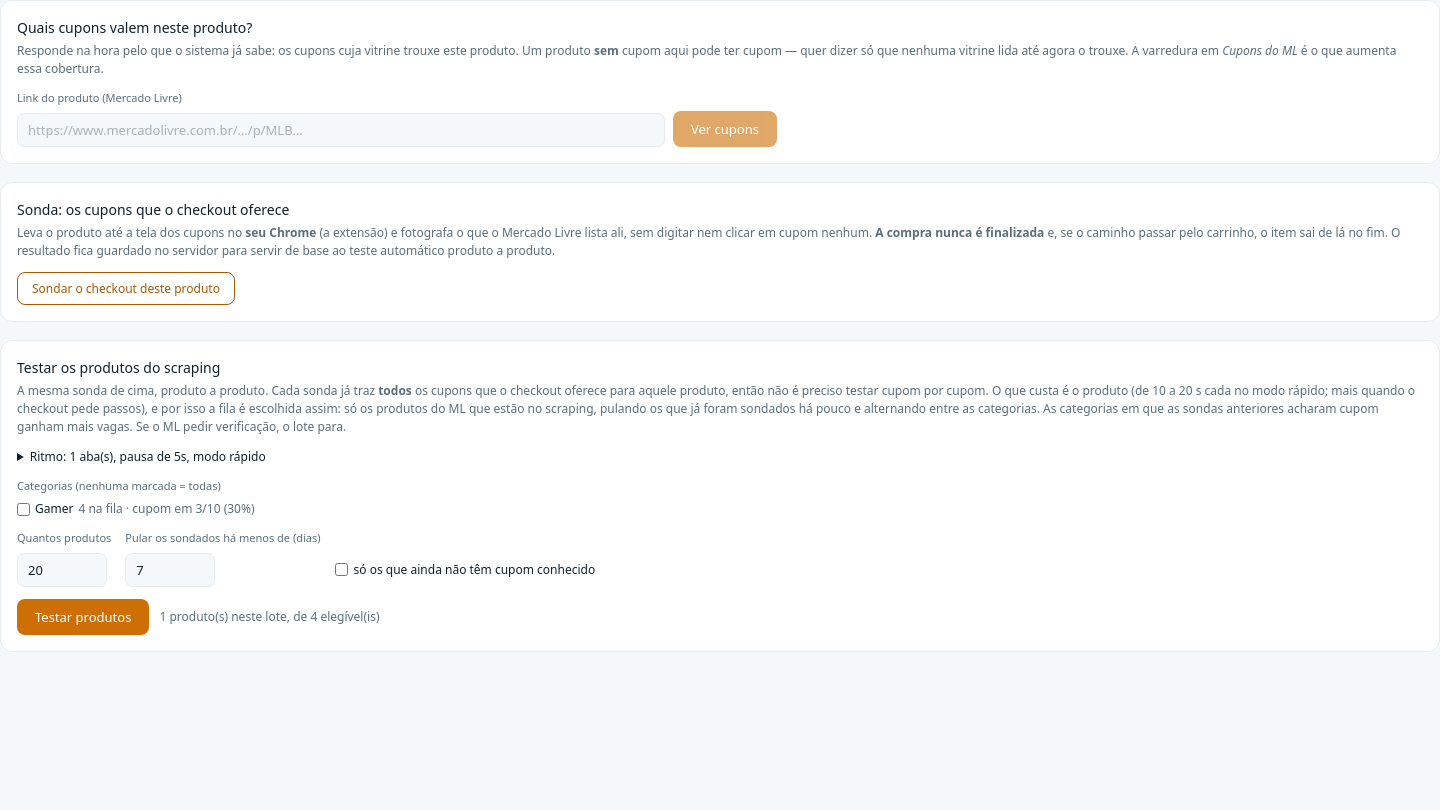
Test: Cupons do produto › testar os produtos do scraping: filtros por categoria, progresso e o desfecho de cada um
Expected: the text "1 produto(s) neste lote, de 4 elegível(is)" is shown, [159,608,380,626]
Expected: the text "4 na fila · cupom em 3/10 (30%)" is shown, [78,500,254,518]
Click the button "Testar produtos" at (83,616), box [17,598,149,634]
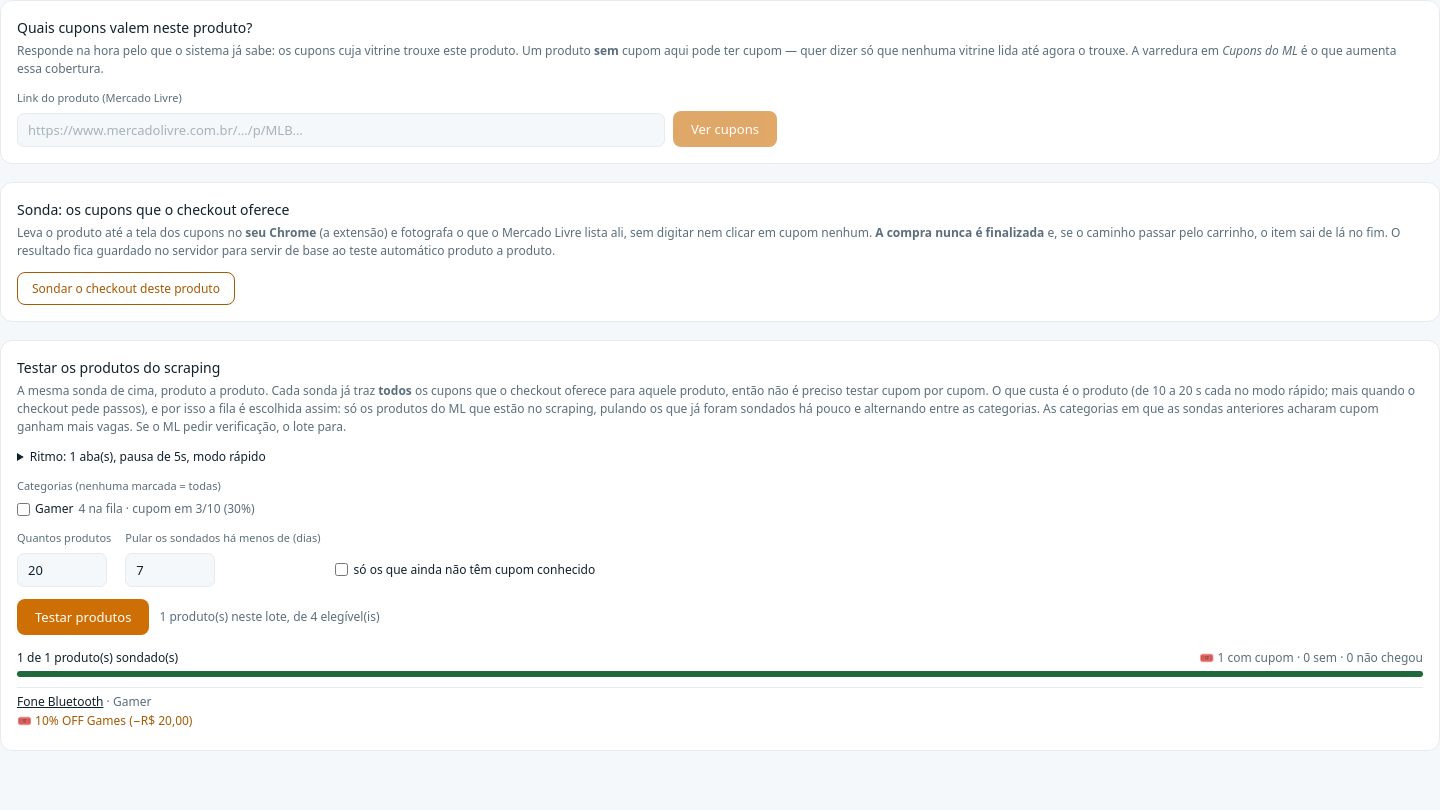
Now the text "🎟️ 10% OFF Games (−R$ 20,00)" is shown, box [17,712,192,729]
Now the text "🎟️ 1 com cupom · 0 sem · 0 não chegou" is shown, box [1199,648,1423,666]
